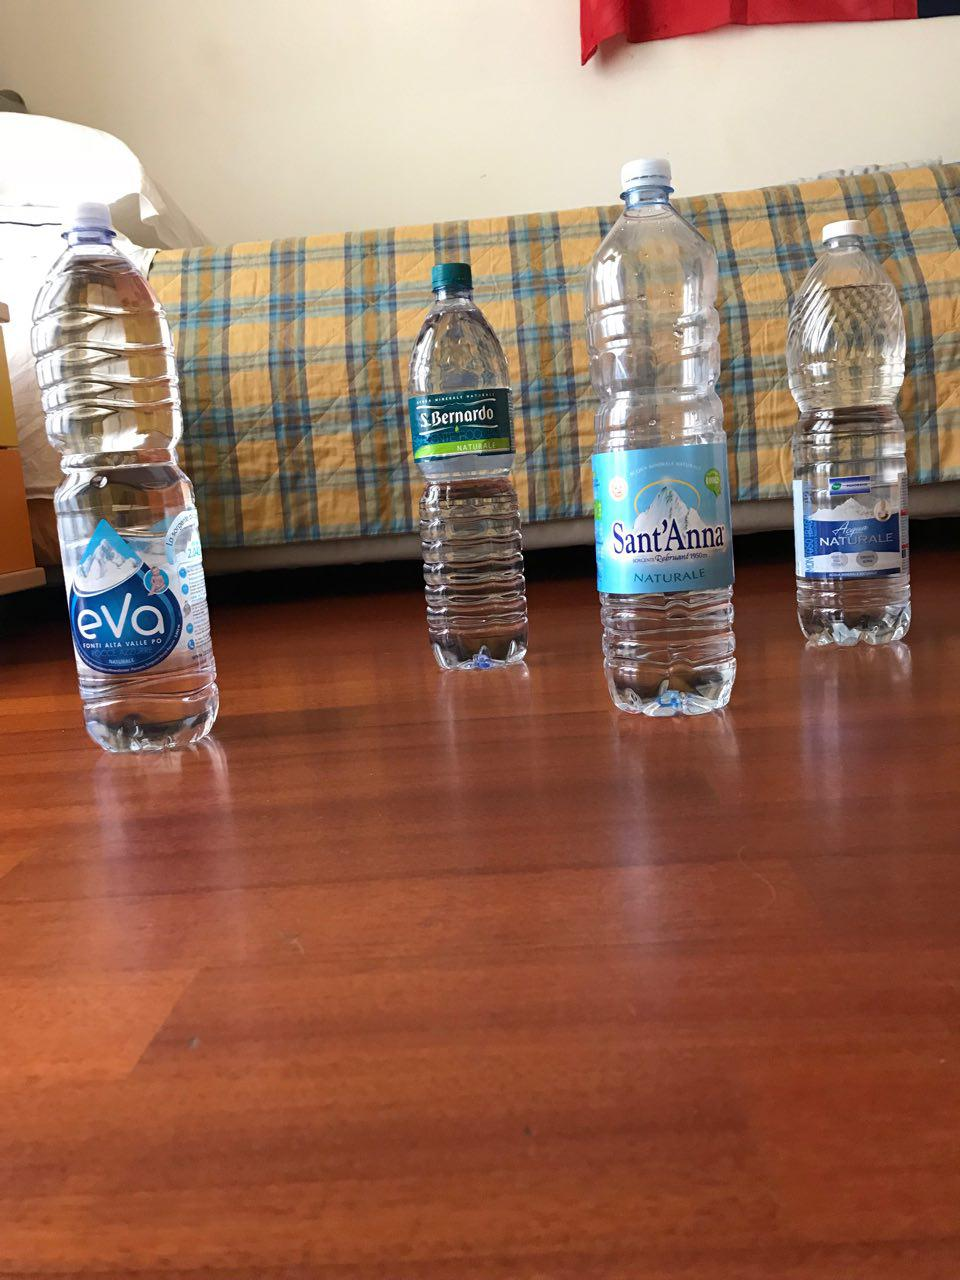san_bernardo: (406, 260, 530, 672)
